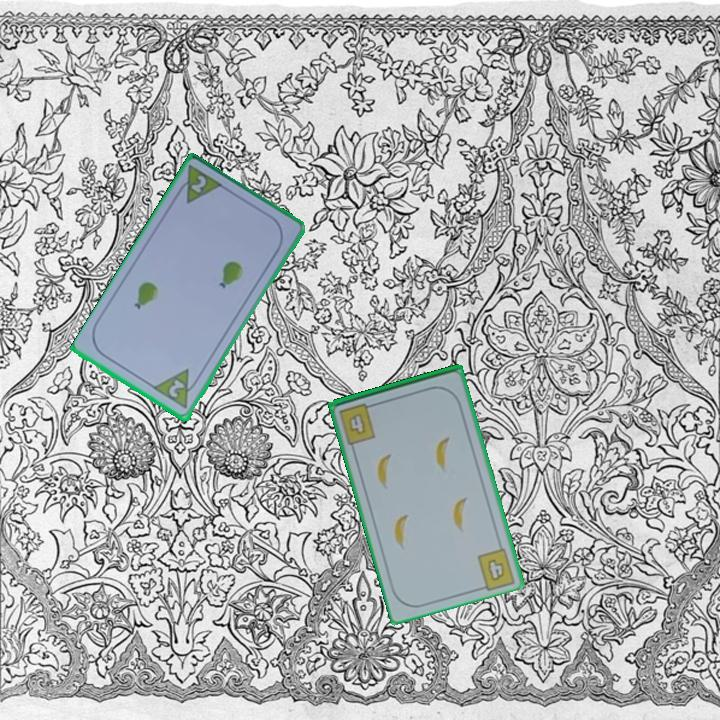2p: (171, 162, 227, 207), (165, 376, 188, 401)
4b: (336, 400, 379, 447), (484, 556, 508, 584)
